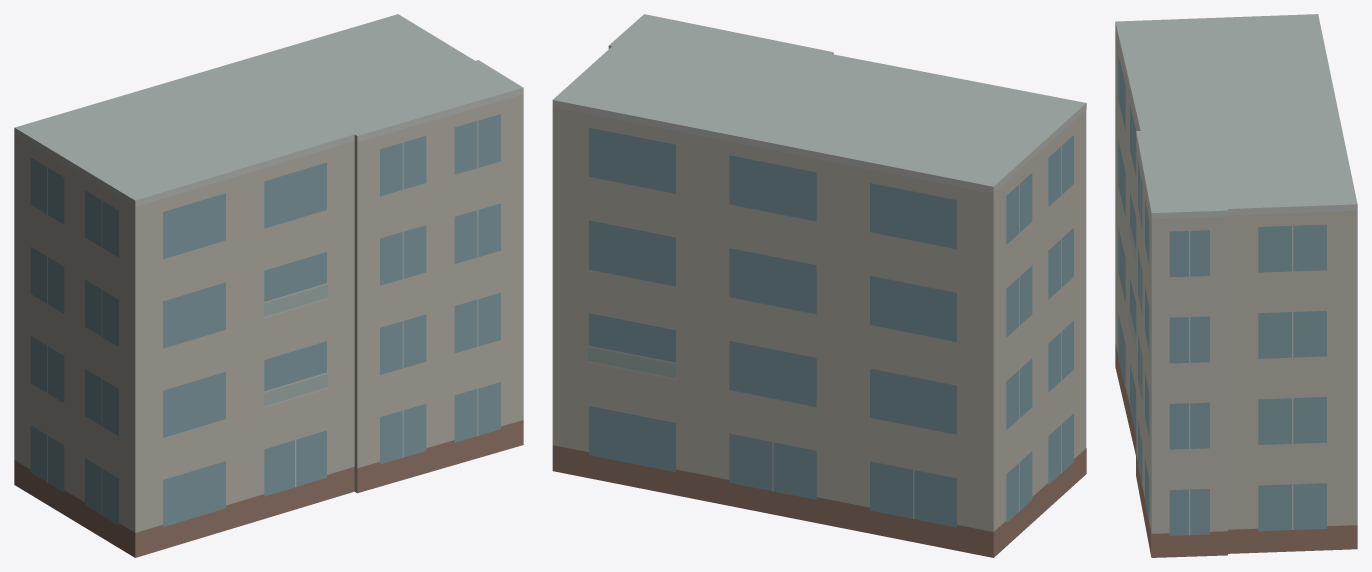
Rendered from survey-upis-32476952.glb.
3 renders of one model, left to right at view 1: azimuth 30°, elevation 25°; view 2: azimuth 150°, elevation 25°; view 3: azimuth 270°, elevation 25°, orthographic. The views are drawn at different scales.
Visible parts, largest first — view 1: survey-upis-32476952.tmp; view 2: survey-upis-32476952.tmp; view 3: survey-upis-32476952.tmp.
Part boxes in pixels (x1,y1,x2,y2): survey-upis-32476952.tmp: [14, 14, 523, 557]; survey-upis-32476952.tmp: [552, 14, 1086, 557]; survey-upis-32476952.tmp: [1115, 14, 1357, 557].
Bounding box in the file's own units: 16.6 × 13.4 × 8.54.
